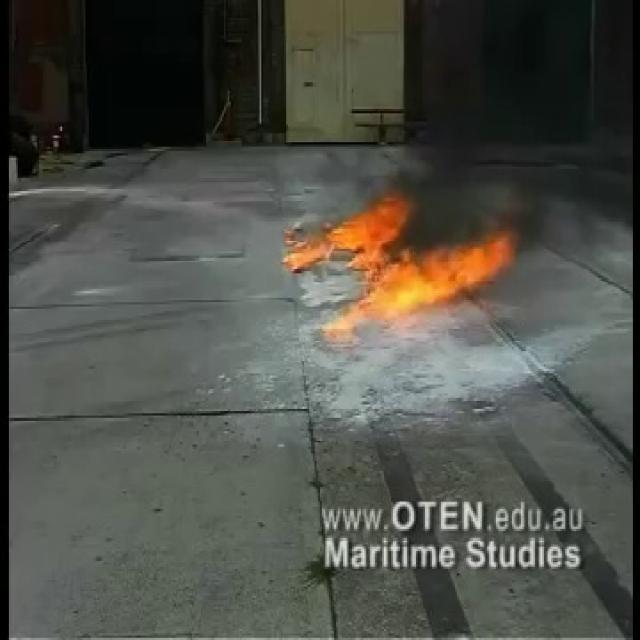Fire: (296, 181, 508, 337)
Smoke: (396, 0, 632, 296)
